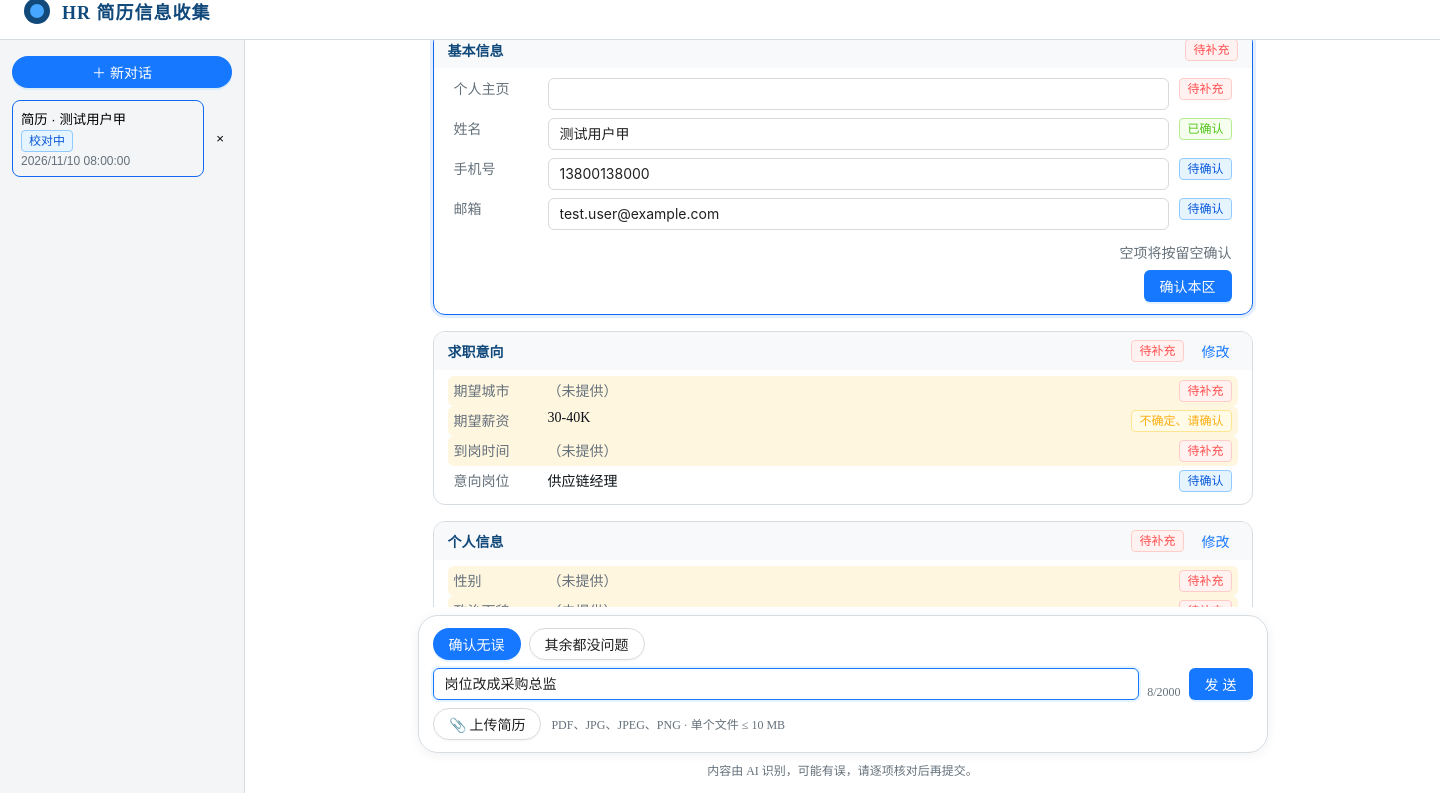
Test: suggestion cards (REQ-FE-07.4-07.6) › apply replaces the fields, does not jump, drops the edit of that field and offers a jump chip
Earlier steps of the test are not shown.
(page scrolled)
Click the button "发 送".
click(1221, 684)  # box [1189, 668, 1252, 700]
(page scrolled)
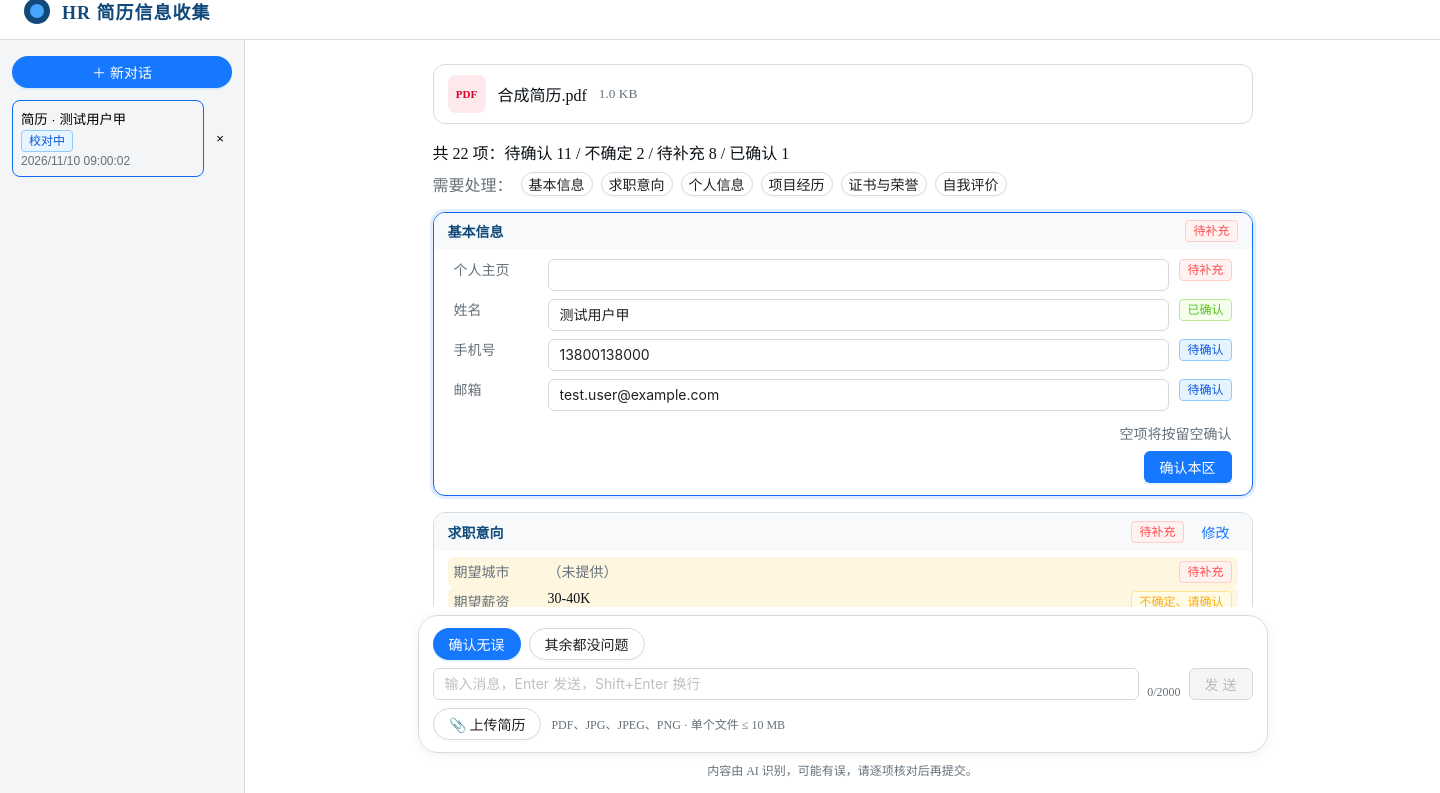
Click the button "求职意向".
click(636, 184)  # box [600, 172, 672, 196]
(page scrolled)
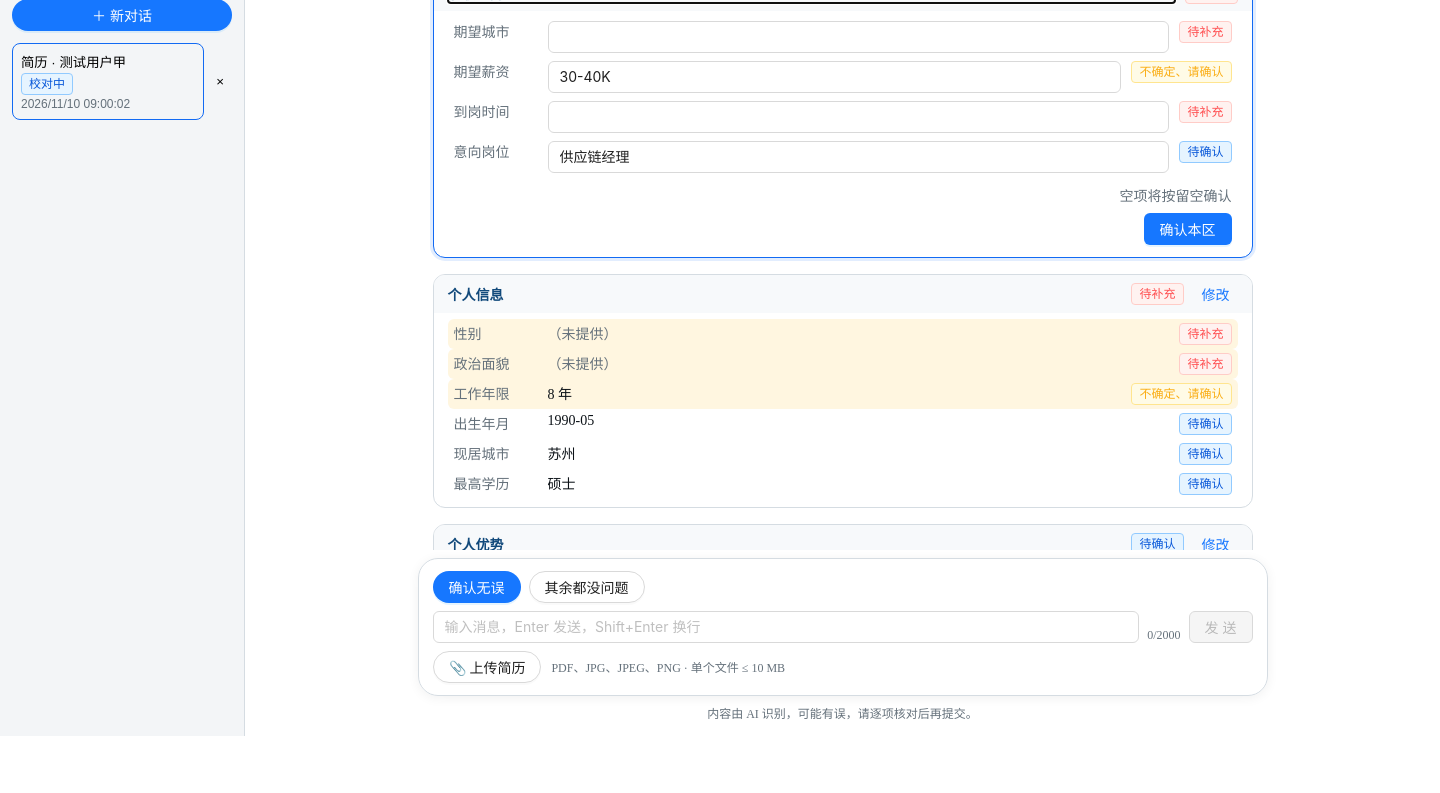
Replace the text in the field labelled "意向岗位" with "我的草稿" at x=858, y=157, box [548, 141, 1170, 173]
(page scrolled)
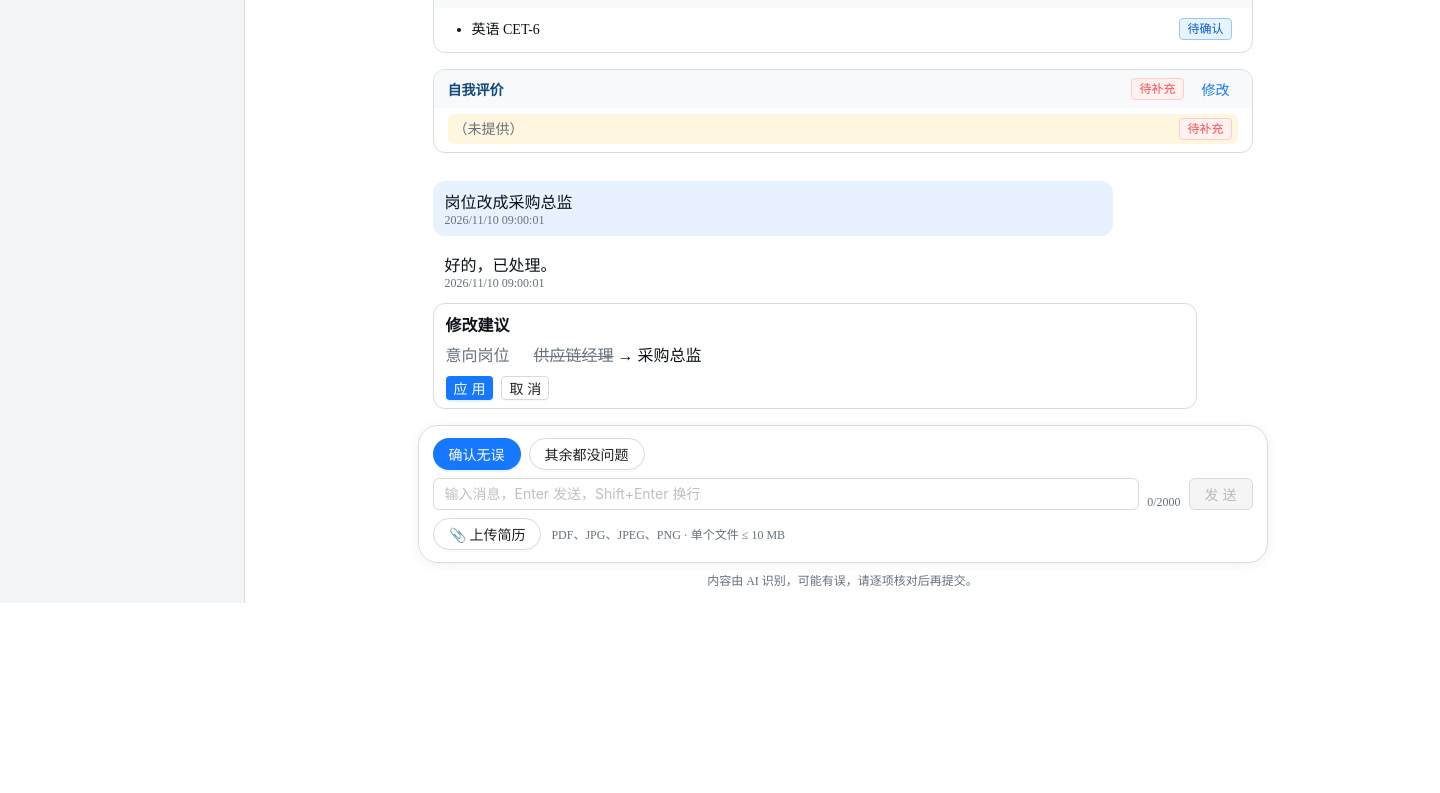
Click the button "应 用".
click(469, 388)  # box [446, 376, 493, 400]
(page scrolled)
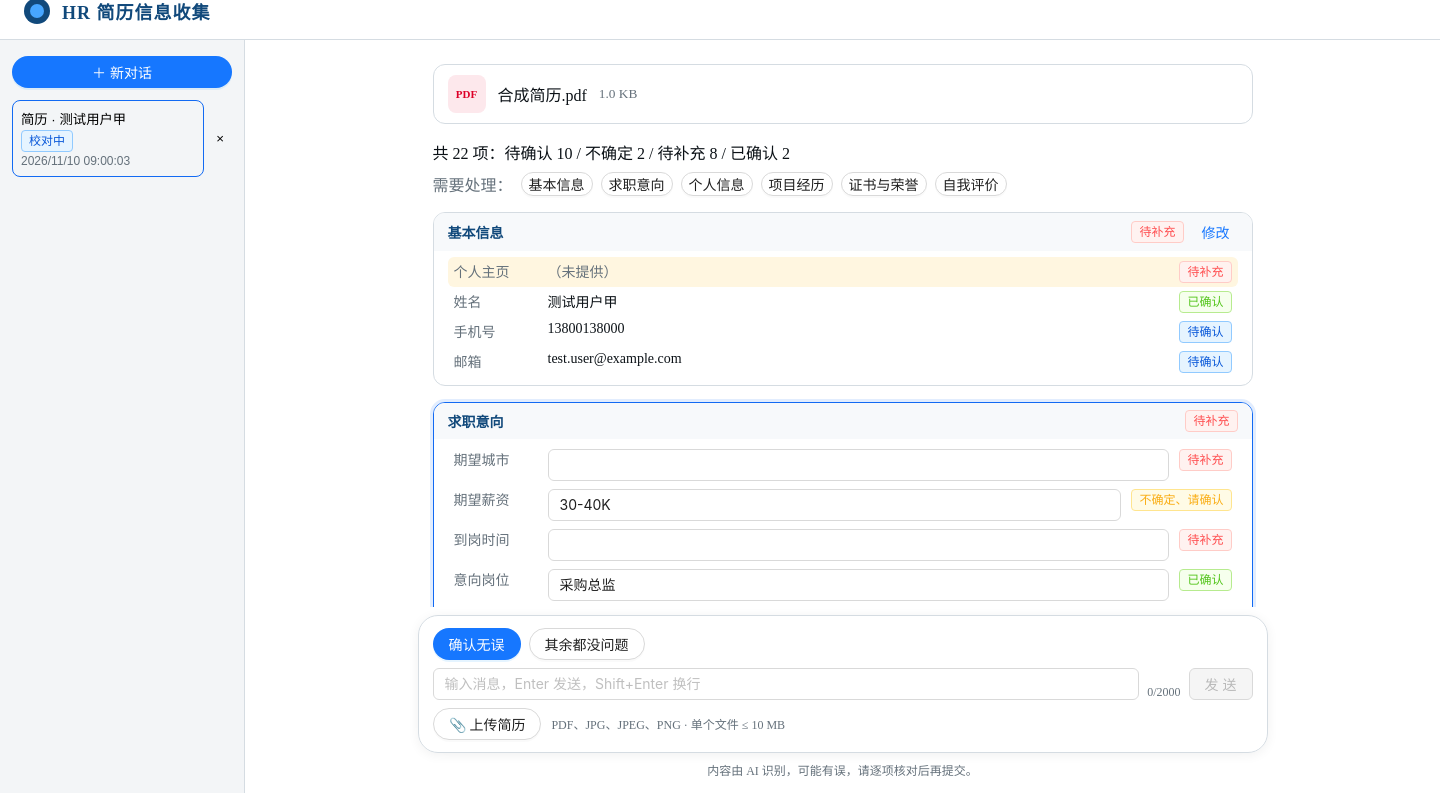
Expected: the field labelled "意向岗位" holds "采购总监", [548, 569, 1170, 601]
Click the button "基本信息".
click(556, 184)  # box [520, 172, 592, 196]
(page scrolled)
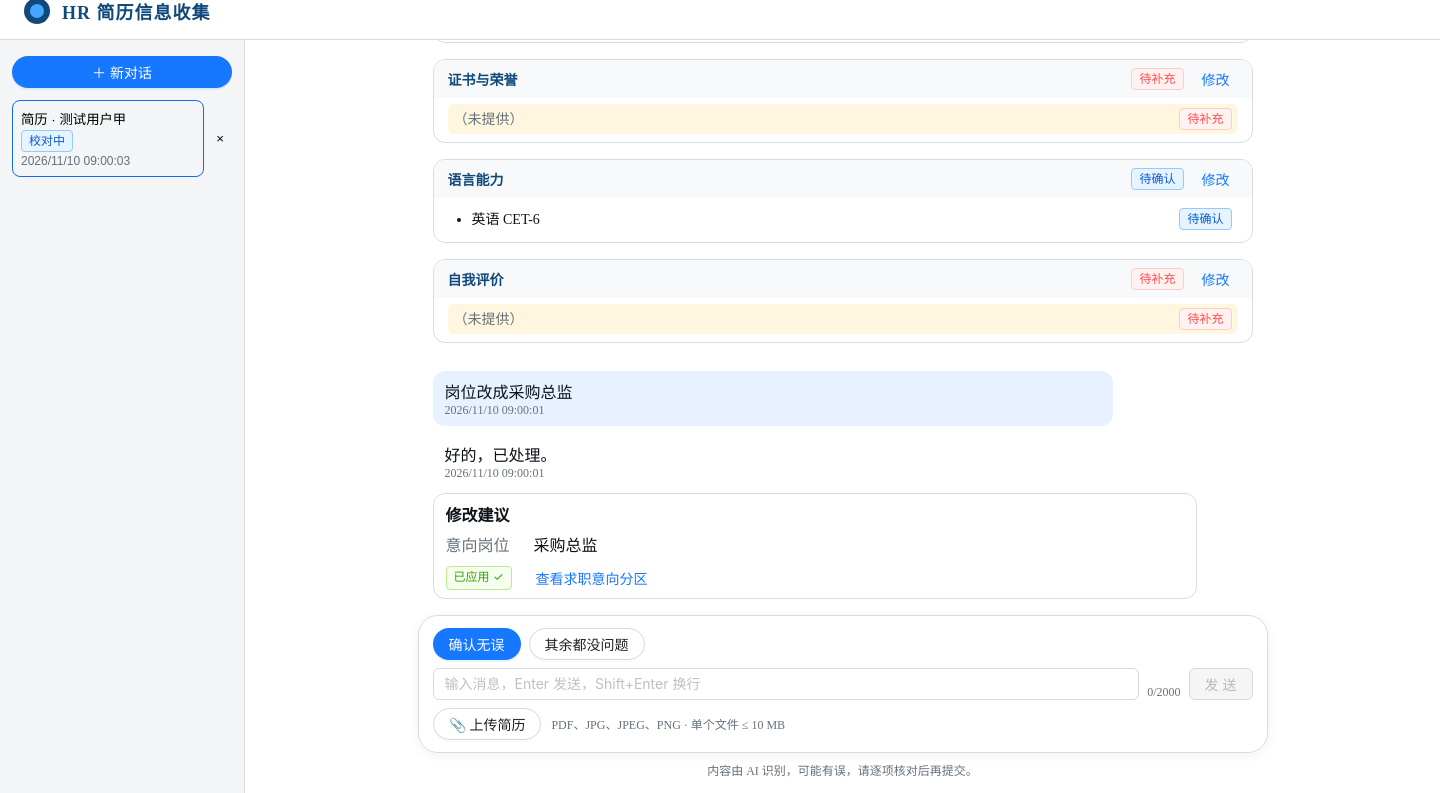
Click the button "查看求职意向分区".
click(592, 578)  # box [528, 566, 656, 590]
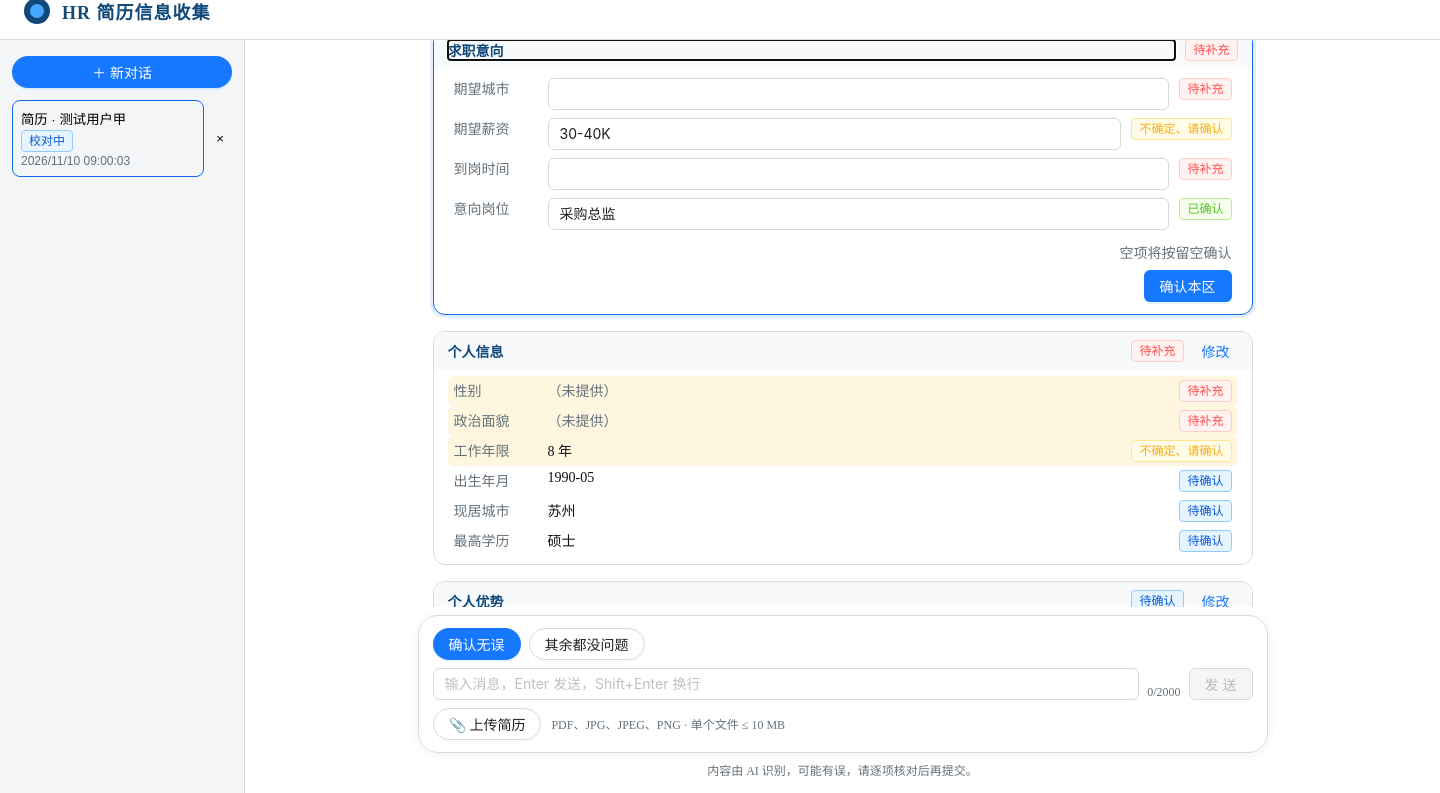
Expected: the heading "求职意向" is shown, [448, 44, 504, 59]
